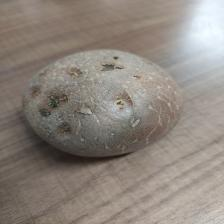Damaged potato: (20, 48, 186, 160)
